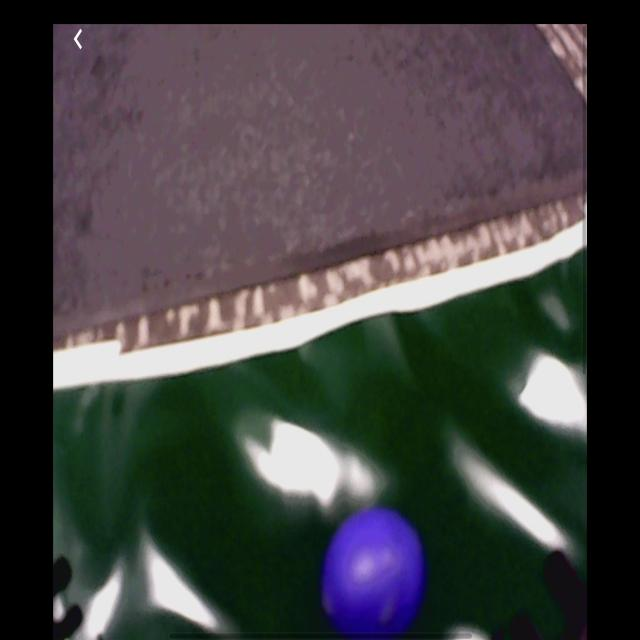ball: (327, 509, 425, 637)
